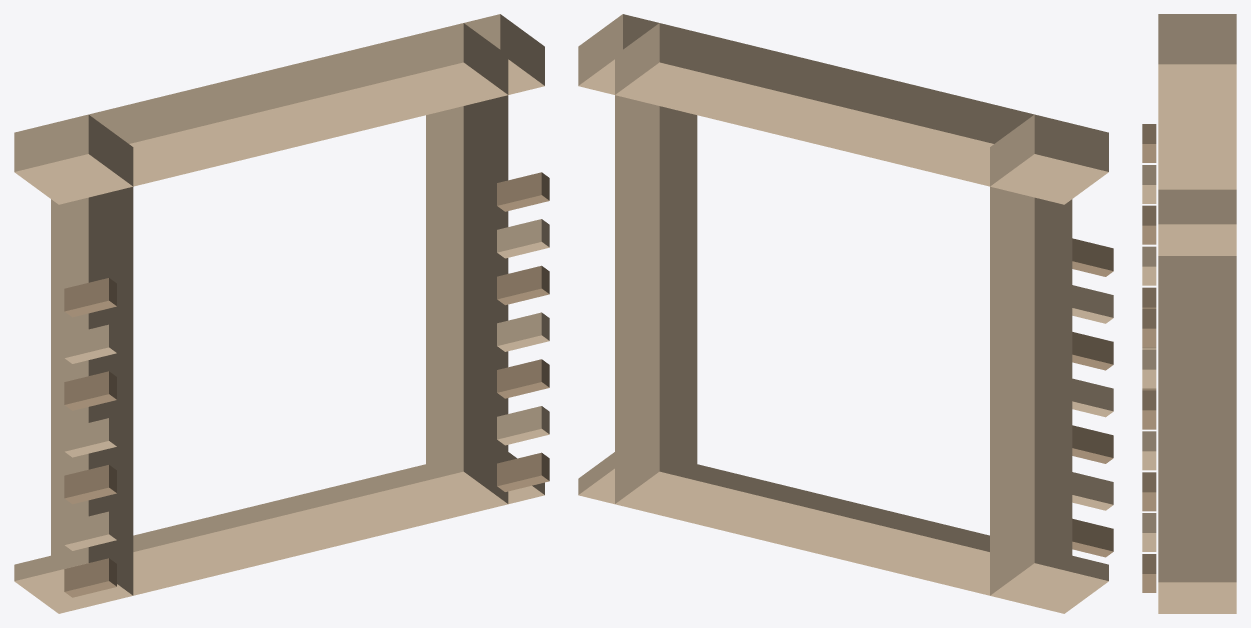
File: mudbrick_lintel_portal.glb
The picture shows the model from 3 angles, left to right: view 1: azimuth 30°, elevation 25°; view 2: azimuth 150°, elevation 25°; view 3: azimuth 270°, elevation 25°; orthographic projection. The views are drawn at different scales.
Parts seen in each view (by area): view 1: mudbrick_lintel_portal; view 2: mudbrick_lintel_portal; view 3: mudbrick_lintel_portal.
Part boxes in pixels (box(x1,y1,x2,y2)): mudbrick_lintel_portal: box(14, 14, 549, 613); mudbrick_lintel_portal: box(578, 14, 1113, 613); mudbrick_lintel_portal: box(1142, 14, 1236, 613).
Bounding box in the file's own units: 4.9 × 4.32 × 0.94.
